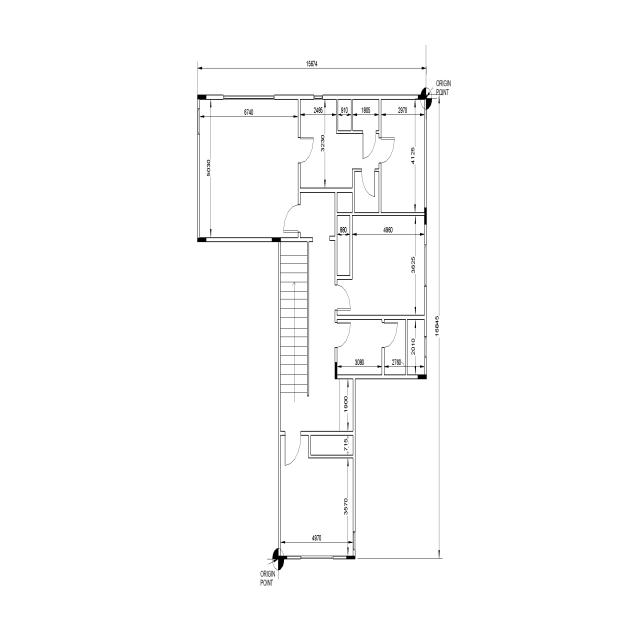Column: (346, 556, 356, 560), (197, 238, 207, 242), (418, 95, 427, 99), (418, 375, 427, 379), (335, 362, 337, 380), (272, 238, 281, 242), (424, 208, 426, 225), (198, 95, 206, 99), (278, 556, 287, 559)
Door: (284, 430, 302, 466), (283, 203, 301, 234), (334, 283, 351, 312), (378, 136, 395, 164), (334, 321, 351, 349), (381, 322, 398, 348), (362, 129, 376, 160), (298, 137, 314, 164), (361, 168, 375, 198)
Staircase: (278, 246, 309, 404)
Window: (223, 93, 275, 101), (300, 555, 334, 560), (424, 244, 427, 288), (197, 107, 200, 136), (352, 531, 356, 551), (424, 335, 427, 359), (313, 94, 324, 100)
